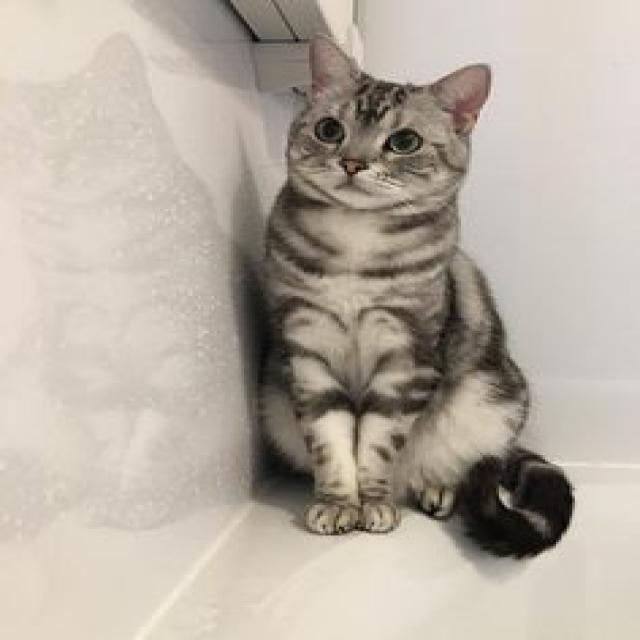da khoe manh: (302, 214, 493, 444)
